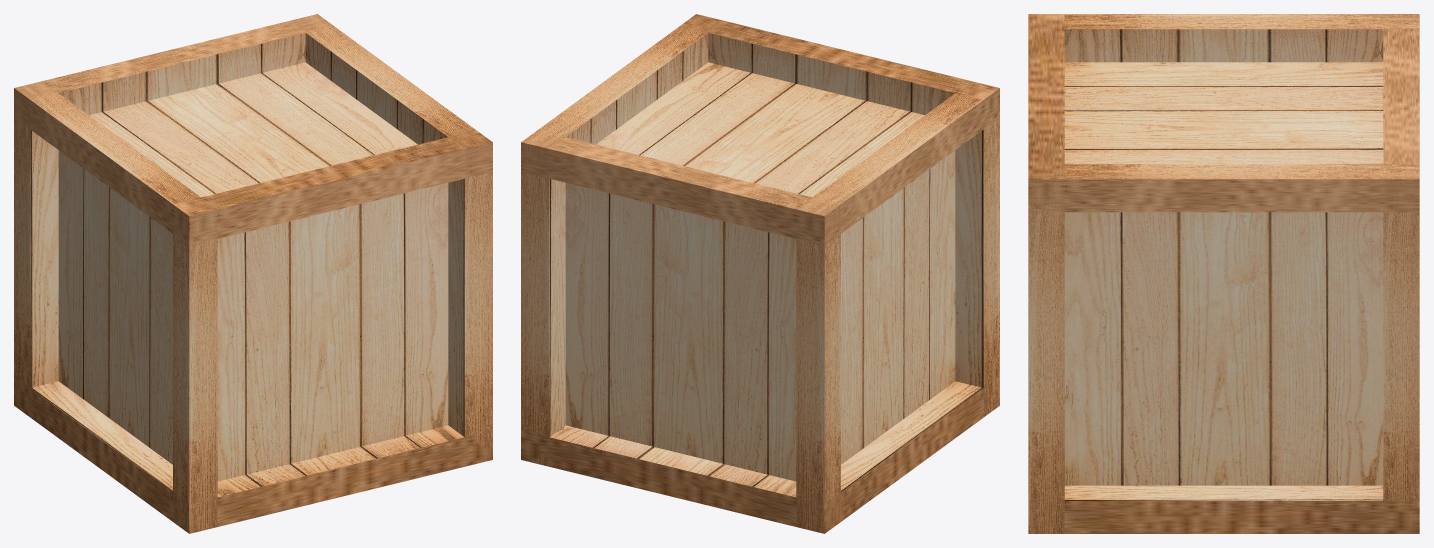
File: caixa.fbx
The picture shows the model from 3 angles, left to right: view 1: azimuth 30°, elevation 25°; view 2: azimuth 150°, elevation 25°; view 3: azimuth 270°, elevation 25°; orthographic projection. The views are drawn at different scales.
Parts seen in each view (by area): view 1: Cube; view 2: Cube; view 3: Cube.
Boxes of the visible parts, bbox=[...] form: Cube: bbox=[14, 14, 492, 533]; Cube: bbox=[521, 14, 999, 533]; Cube: bbox=[1028, 14, 1419, 533].
Bounding box in the file's own units: 200 × 200 × 200.
Materials: 1 (1 with a texture image).
